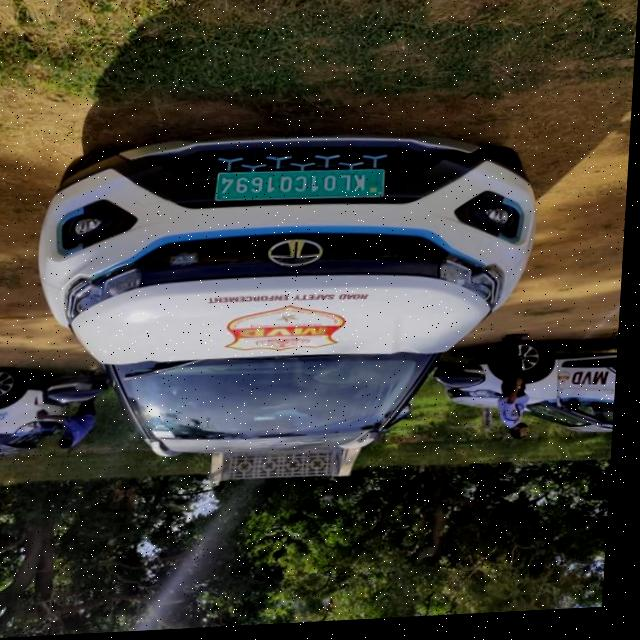plate: (217, 168, 391, 210)
